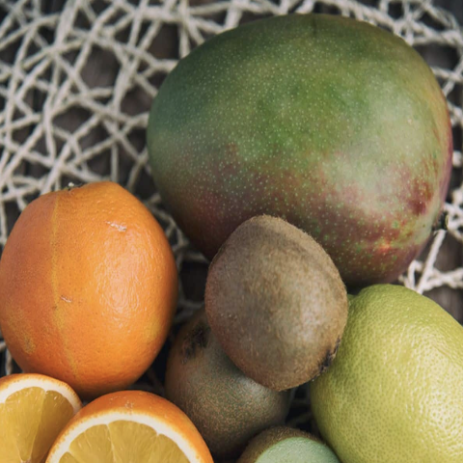kiwi: (113, 8, 463, 284), (206, 207, 346, 392)
orange: (0, 174, 183, 390)
